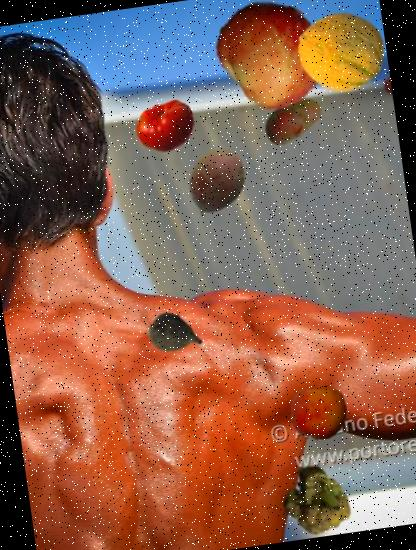Beetroot: (143, 301, 212, 370)
Cantaloupe: (292, 2, 390, 101)
Cauliflower: (275, 460, 355, 540)
Nectarine: (208, 0, 333, 115)
Peach: (286, 381, 352, 447)
Potato: (178, 142, 256, 220), (258, 84, 330, 156)
Tomato: (132, 92, 201, 162)
